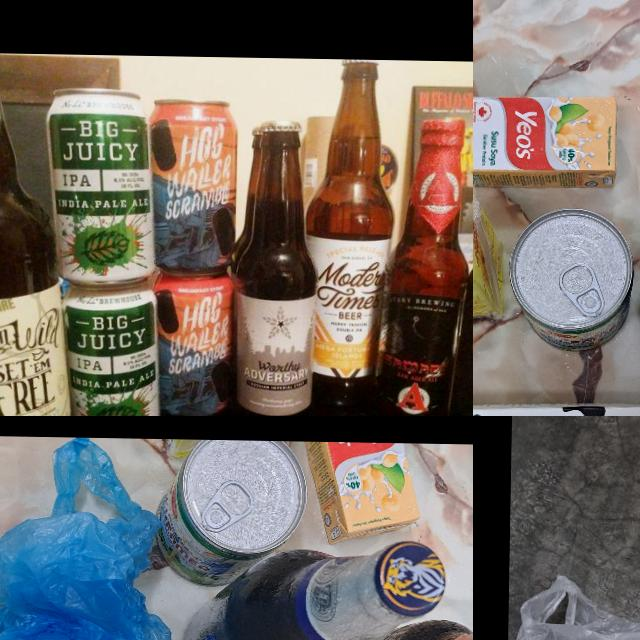aba de lata: (202, 478, 254, 533), (558, 260, 606, 318)
caixinha: (473, 94, 620, 187), (300, 442, 420, 548), (473, 183, 505, 319)
garrafa de vidro: (303, 58, 395, 408), (0, 51, 79, 416), (182, 537, 446, 640), (381, 118, 471, 416), (232, 118, 319, 416)
lata: (154, 438, 308, 588), (44, 88, 158, 289), (509, 205, 634, 352), (148, 95, 238, 272)
sacola plástica: (0, 435, 178, 640), (514, 570, 640, 640)
